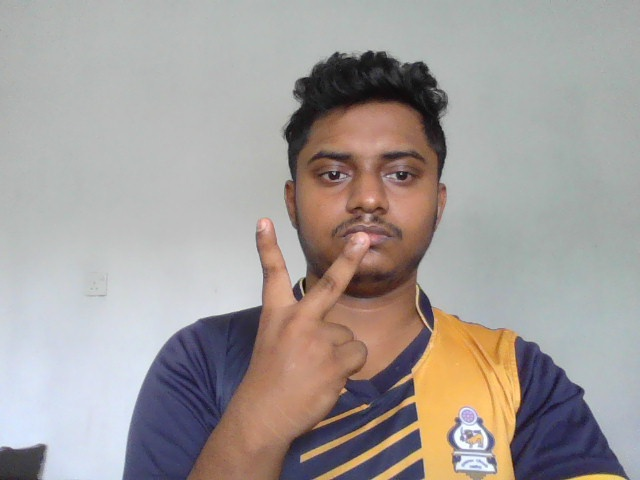See You: (225, 216, 369, 434)
